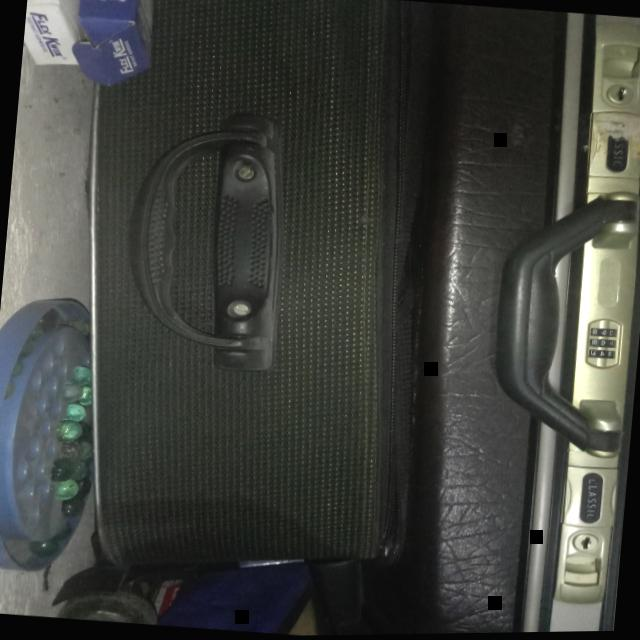luggage: (41, 0, 451, 597), (376, 1, 640, 636)
